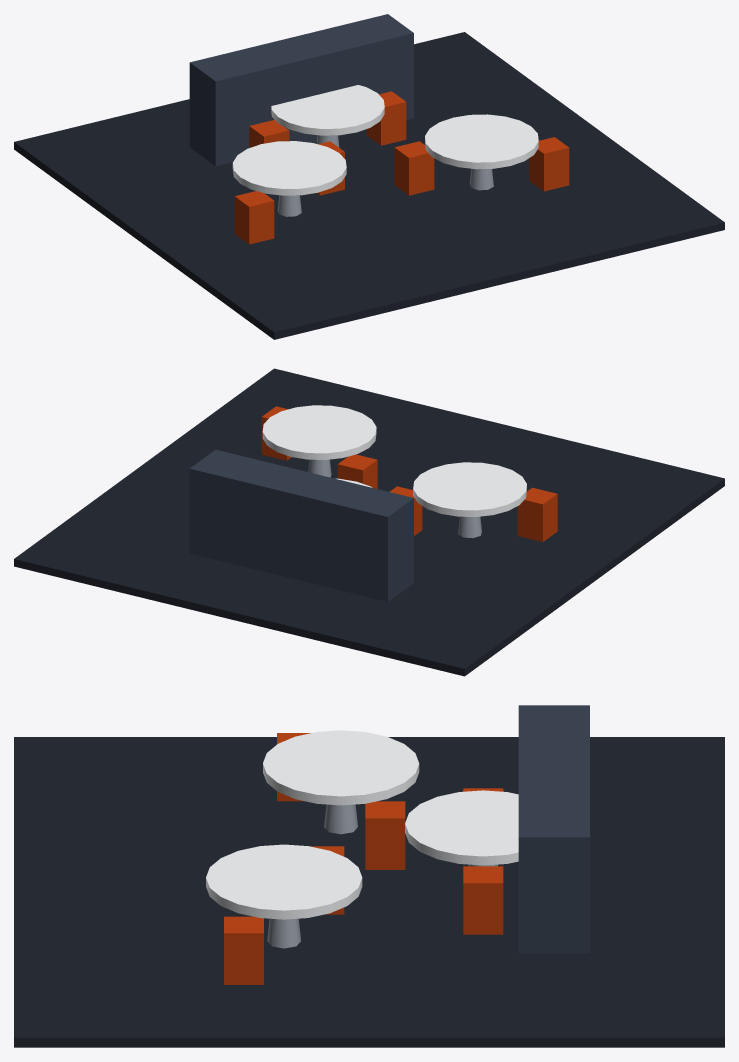
File: restaurant.glb
The picture shows the model from 3 angles, top to bottom: view 1: azimuth 30°, elevation 25°; view 2: azimuth 150°, elevation 25°; view 3: azimuth 270°, elevation 25°; orthographic projection. The views are drawn at different scales.
Bounding box in the file's own units: 5 × 0.98 × 5.
